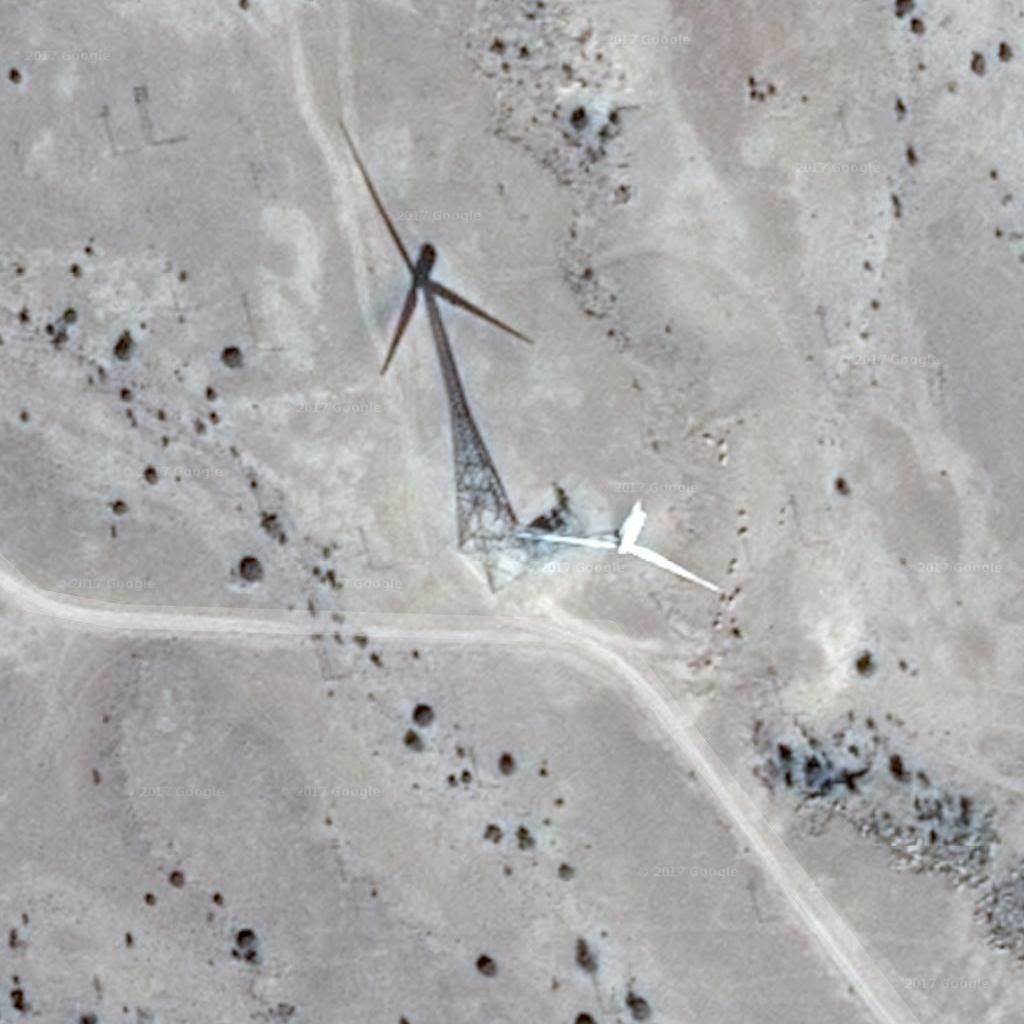Windmill: (330, 116, 554, 528)
